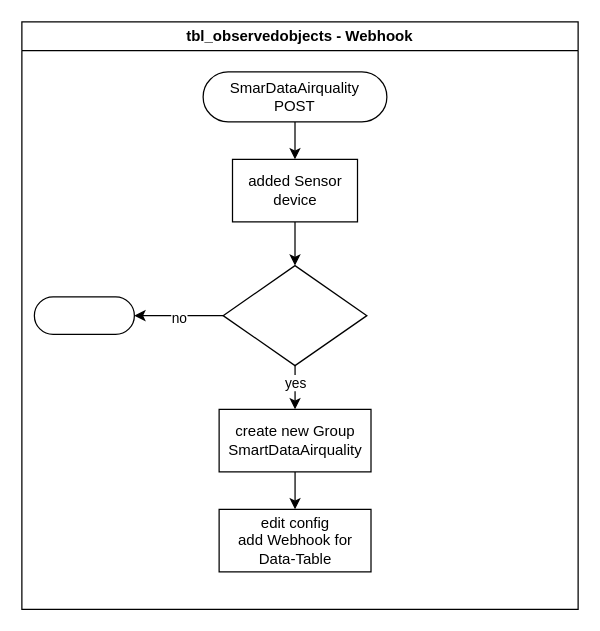
Some shapes in this 600 by 631 pixel diagram are drawn without their labels. The shapes that lost their labels are listed below. From the top down, each one's centre as x and y in pixels, then its label:
At pixel 83 315: "end".
At pixel 294 315: "mobile Device?".
